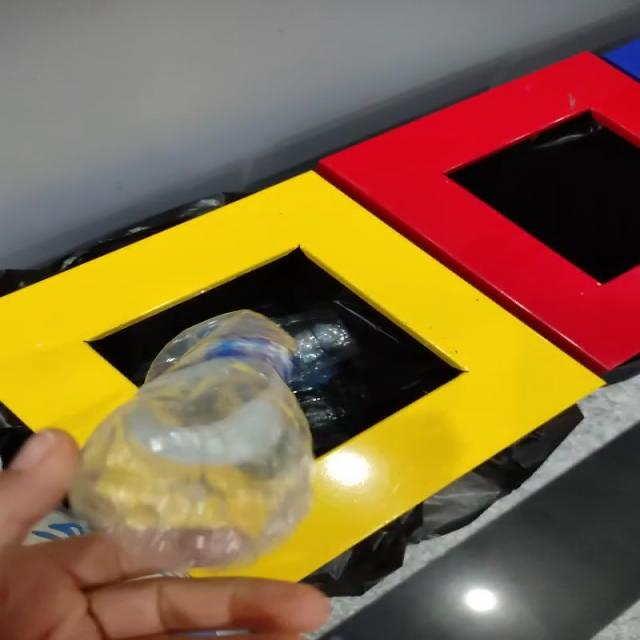plastic: (71, 310, 311, 575)
